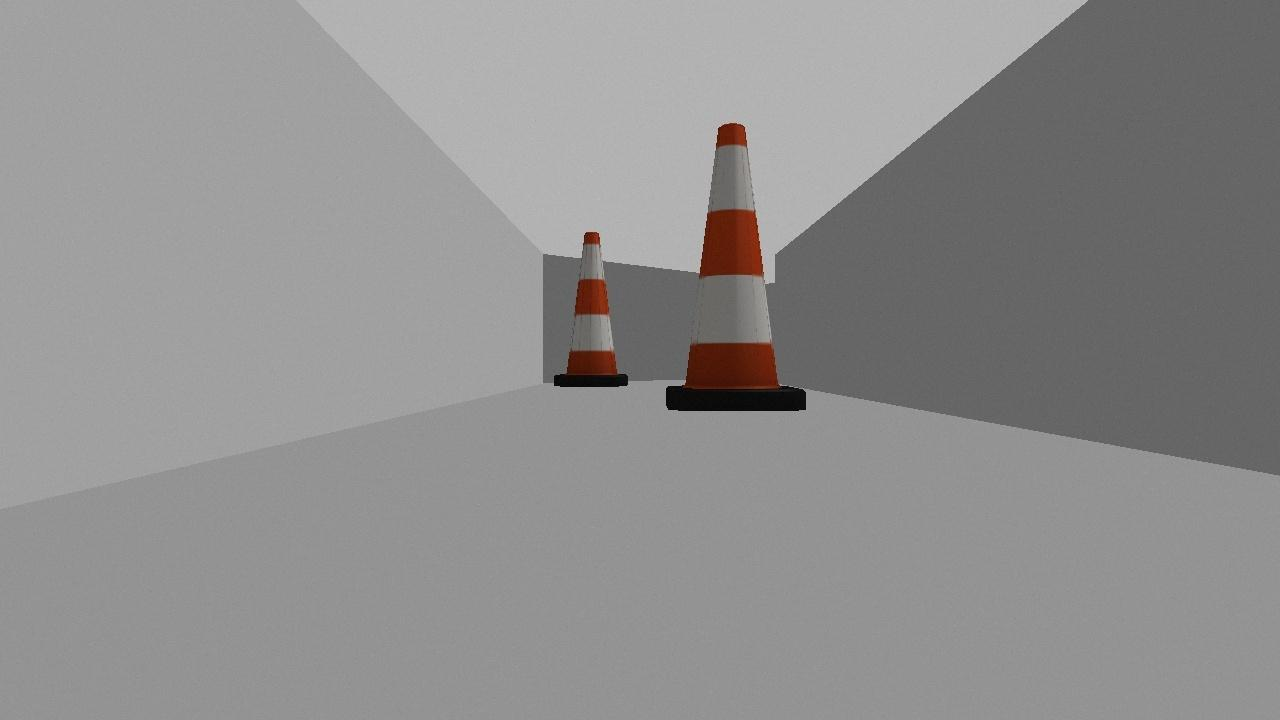cone_barrel: (659, 122, 811, 419), (548, 224, 633, 394)
